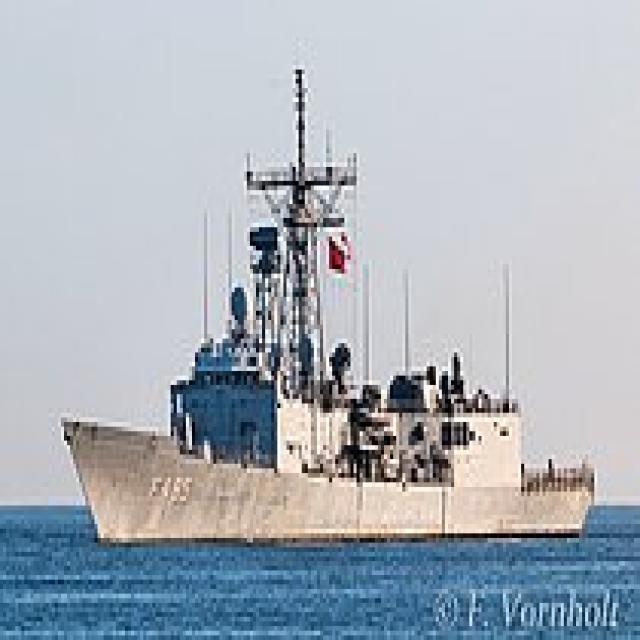Warship: (58, 60, 597, 543)
